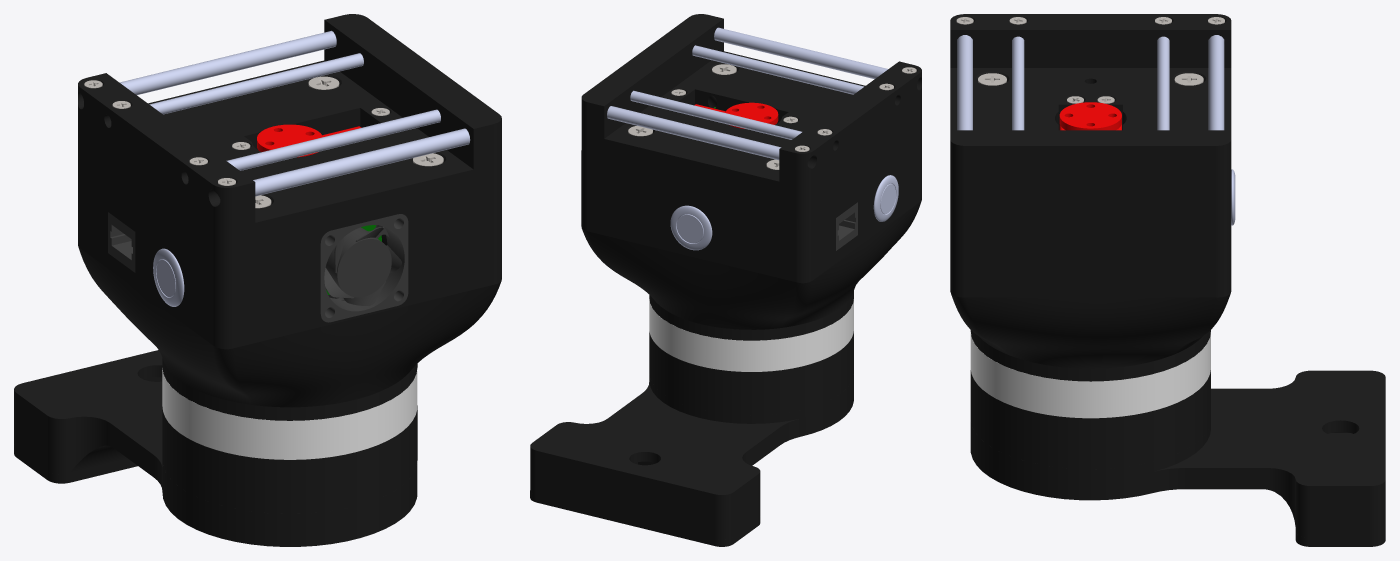
The model's file is gripper_base.dae.
The picture shows the model from 3 angles, left to right: view 1: azimuth 30°, elevation 25°; view 2: azimuth 150°, elevation 25°; view 3: azimuth 270°, elevation 25°; orthographic projection. The views are drawn at different scales.
Visible parts, largest first — view 1: Твердое тело16, Твердое тело1, Твердое тело21, Твердое тело26, Твердое тело17, Твердое тело5, Твердое тело3, Твердое тело2, Твердое тело4, Твердое тело27, Твердое тело6, Твердое тело18 (+1 smaller); view 2: Твердое тело16, Твердое тело1, Твердое тело21, Твердое тело26, Твердое тело3, Твердое тело5, Твердое тело2, Твердое тело4, Твердое тело20, Твердое тело28, Твердое тело27, Твердое тело6 (+1 smaller); view 3: Твердое тело16, Твердое тело1, Твердое тело21, Твердое тело26, Твердое тело6, Твердое тело3, Твердое тело5, Твердое тело2, Твердое тело4, Твердое тело20.
Part boxes in pixels (x1,y1,x2,y2): Твердое тело16: [78, 149, 501, 513]; Твердое тело1: [78, 14, 501, 252]; Твердое тело21: [14, 350, 417, 546]; Твердое тело26: [162, 368, 417, 459]; Твердое тело17: [320, 214, 408, 322]; Твердое тело5: [253, 128, 470, 196]; Твердое тело3: [119, 30, 336, 94]; Твердое тело2: [149, 53, 363, 114]; Твердое тело4: [226, 109, 440, 170]; Твердое тело27: [153, 248, 184, 306]; Твердое тело6: [257, 124, 361, 157]; Твердое тело18: [108, 212, 135, 272]; Твердое тело16: [581, 106, 921, 415]; Твердое тело1: [581, 14, 921, 205]; Твердое тело21: [530, 374, 853, 539]; Твердое тело26: [649, 299, 853, 371]; Твердое тело3: [607, 106, 781, 160]; Твердое тело5: [714, 27, 888, 79]; Твердое тело2: [630, 90, 801, 139]; Твердое тело4: [692, 45, 863, 94]; Твердое тело20: [530, 490, 760, 546]; Твердое тело28: [670, 205, 712, 250]; Твердое тело27: [873, 175, 898, 221]; Твердое тело6: [694, 102, 778, 128]; Твердое тело16: [950, 201, 1231, 469]; Твердое тело1: [950, 14, 1231, 206]; Твердое тело21: [970, 370, 1385, 538]; Твердое тело26: [970, 332, 1210, 418]; Твердое тело6: [1059, 102, 1121, 130]; Твердое тело3: [1208, 35, 1224, 130]; Твердое тело5: [957, 35, 972, 130]; Твердое тело2: [1157, 36, 1169, 130]; Твердое тело4: [1012, 36, 1024, 130]; Твердое тело20: [1295, 433, 1385, 546].
Size of the model in its own units: 101 by 139 by 145.
